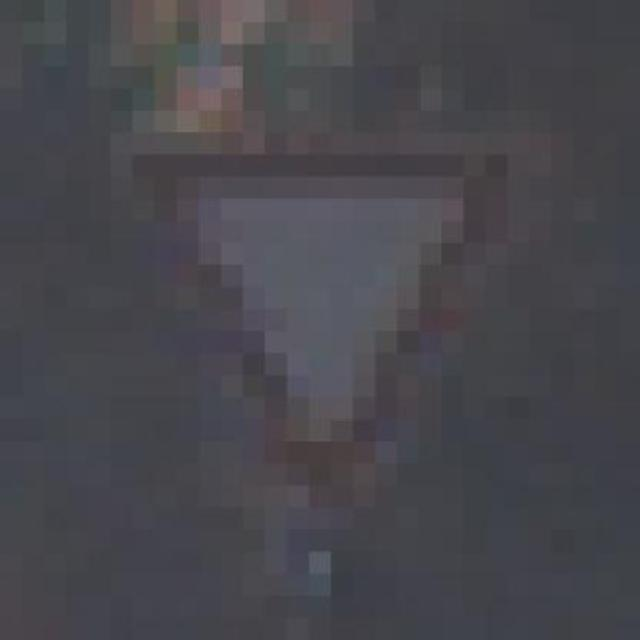Give Way: (66, 110, 529, 552)
